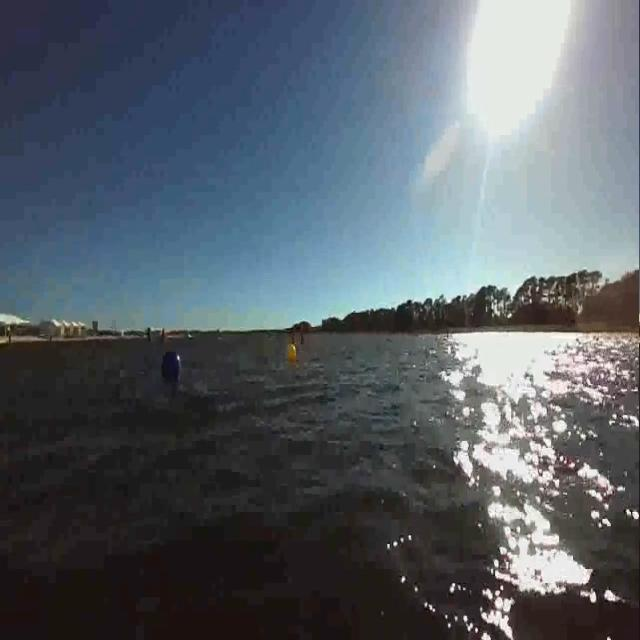blue-buoy: (162, 349, 182, 381)
yellow-buoy: (287, 342, 297, 362)
